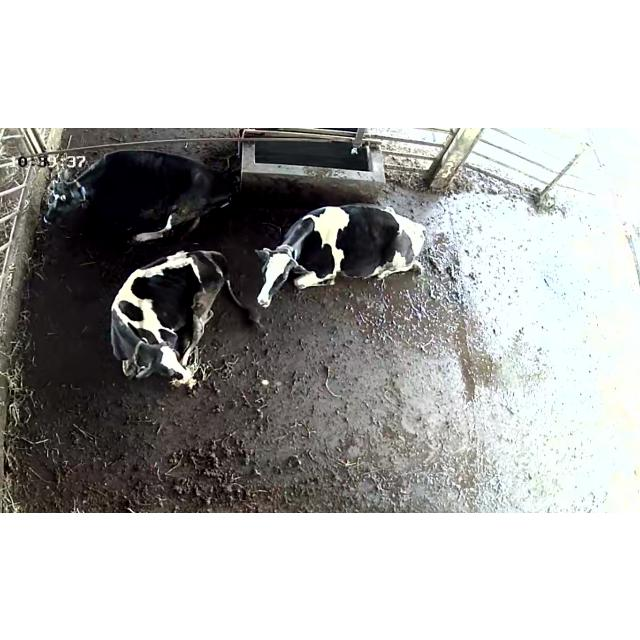lay: (252, 194, 446, 326), (92, 247, 246, 401), (34, 146, 240, 246)
